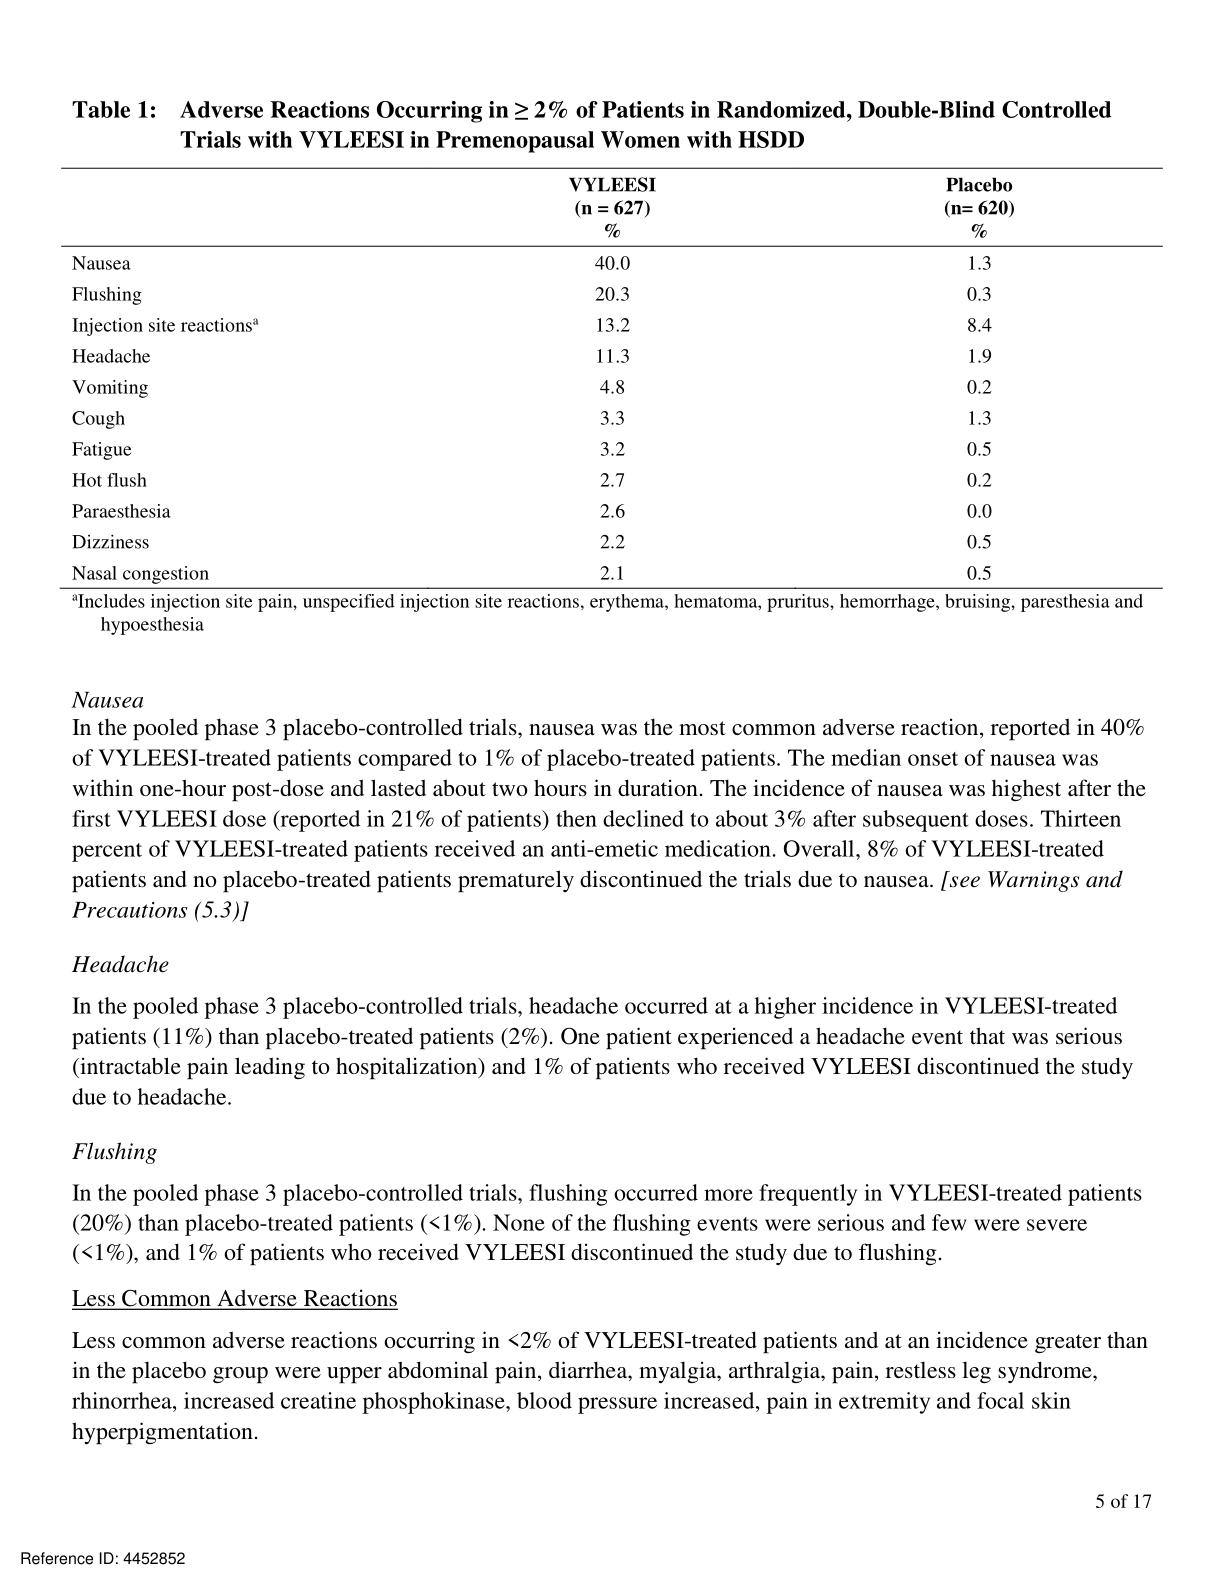partial_lined: (57, 163, 1165, 590)
